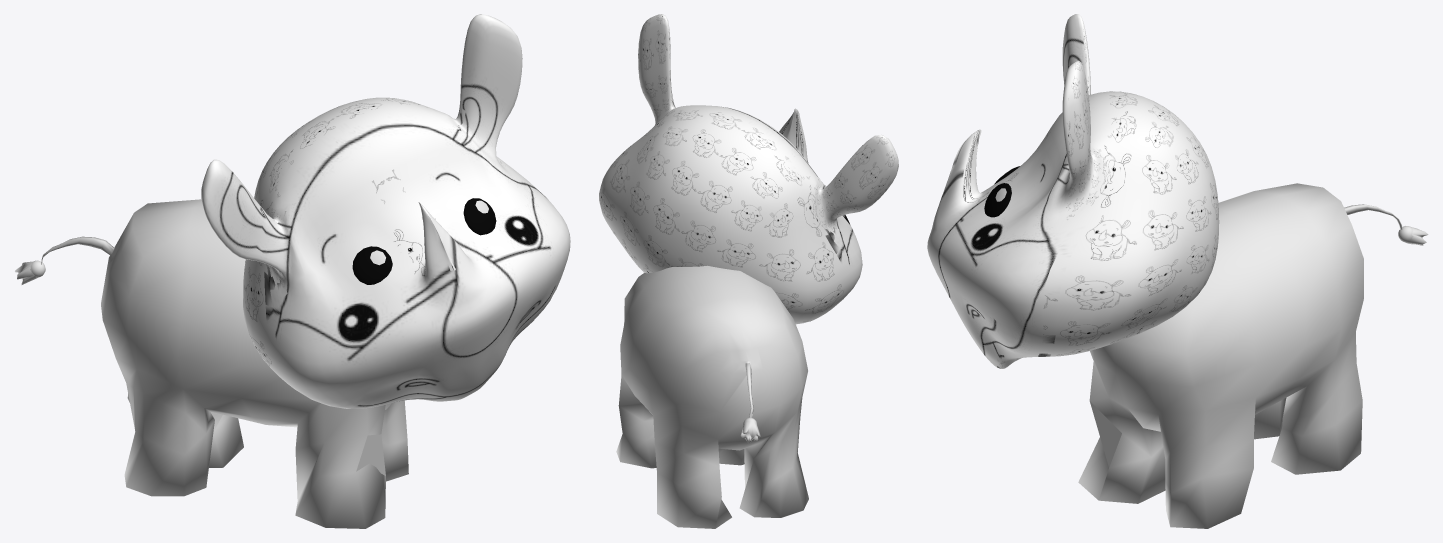
The model's file is testRino.fbx.
3 renders of one model, left to right at view 1: azimuth 30°, elevation 25°; view 2: azimuth 150°, elevation 25°; view 3: azimuth 270°, elevation 25°, orthographic. The views are drawn at different scales.
Visible parts, largest first — view 1: Roundcube, Corps, Oeil Gauche, Oeil Droite; view 2: Roundcube, Corps, Queue; view 3: Corps, Roundcube, Oeil Droite.
Part boxes in pixels (left/top/right/bottom): Roundcube: left=201, top=14, right=570, bottom=408; Corps: left=41, top=199, right=408, bottom=528; Oeil Gauche: left=352, top=246, right=392, bottom=284; Oeil Droite: left=463, top=198, right=496, bottom=235; Roundcube: left=599, top=14, right=898, bottom=324; Corps: left=616, top=265, right=808, bottom=528; Queue: left=740, top=418, right=760, bottom=443; Corps: left=1078, top=183, right=1402, bottom=528; Roundcube: left=927, top=14, right=1219, bottom=368; Oeil Droite: left=984, top=183, right=1011, bottom=217.
Bounding box in the file's own units: 303 × 401 × 380.
